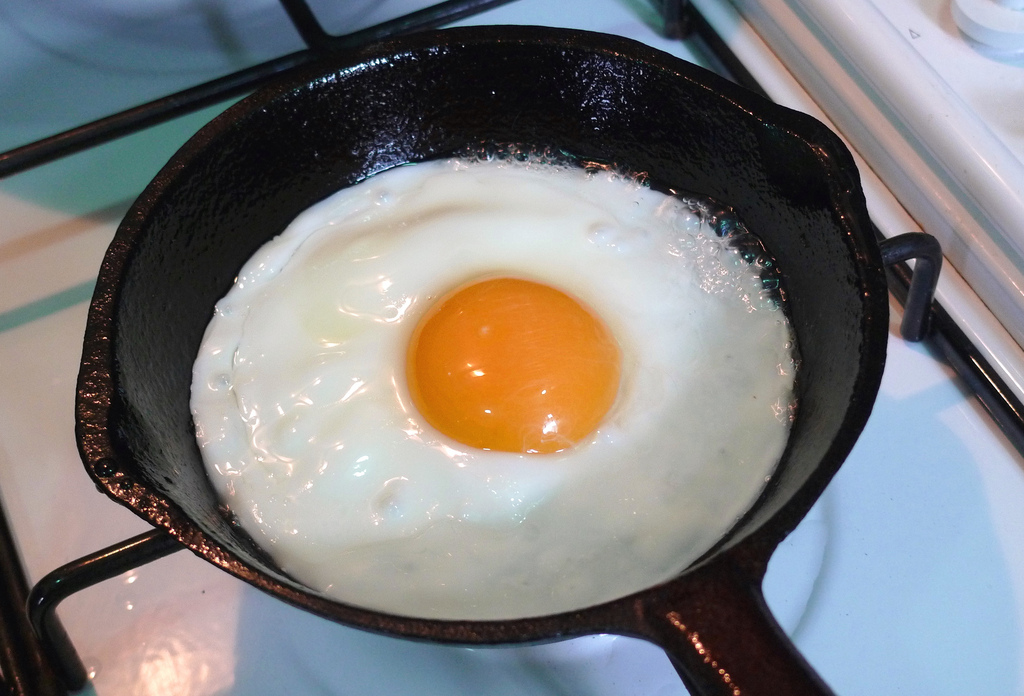fried egg: (259, 239, 739, 554)
